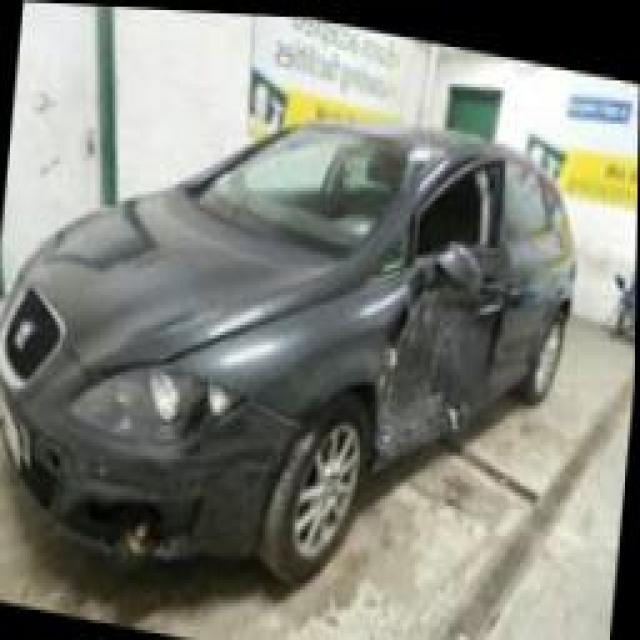Door: (378, 146, 510, 460)
